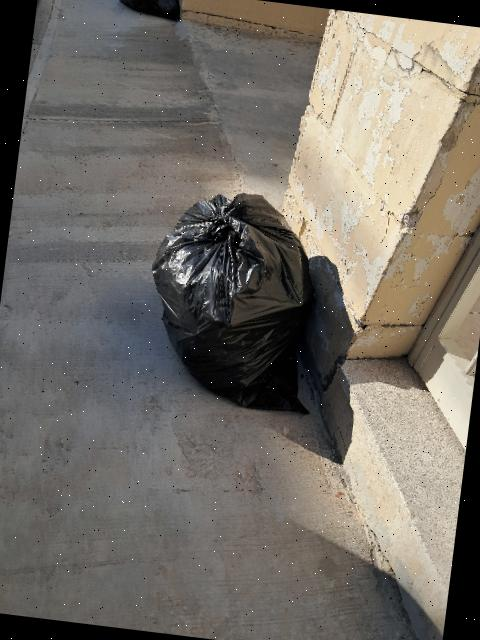Mixed -Black-: (152, 193, 314, 412), (120, 0, 180, 19)
